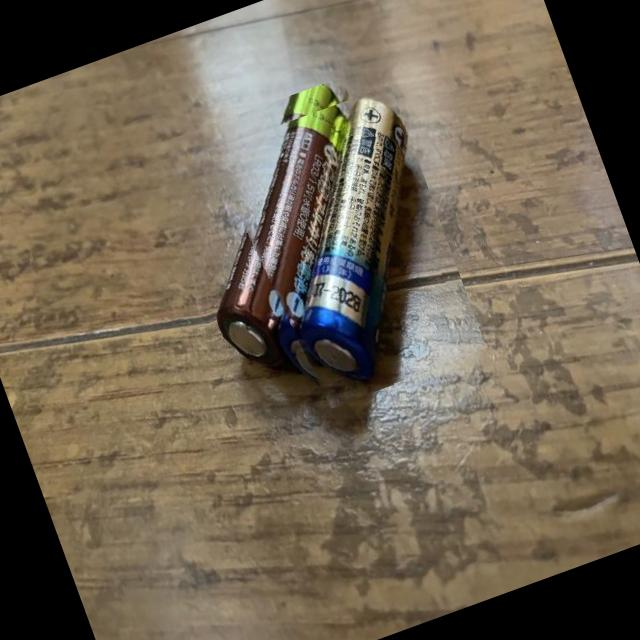Hazard: (209, 85, 488, 418), (148, 77, 428, 383)
